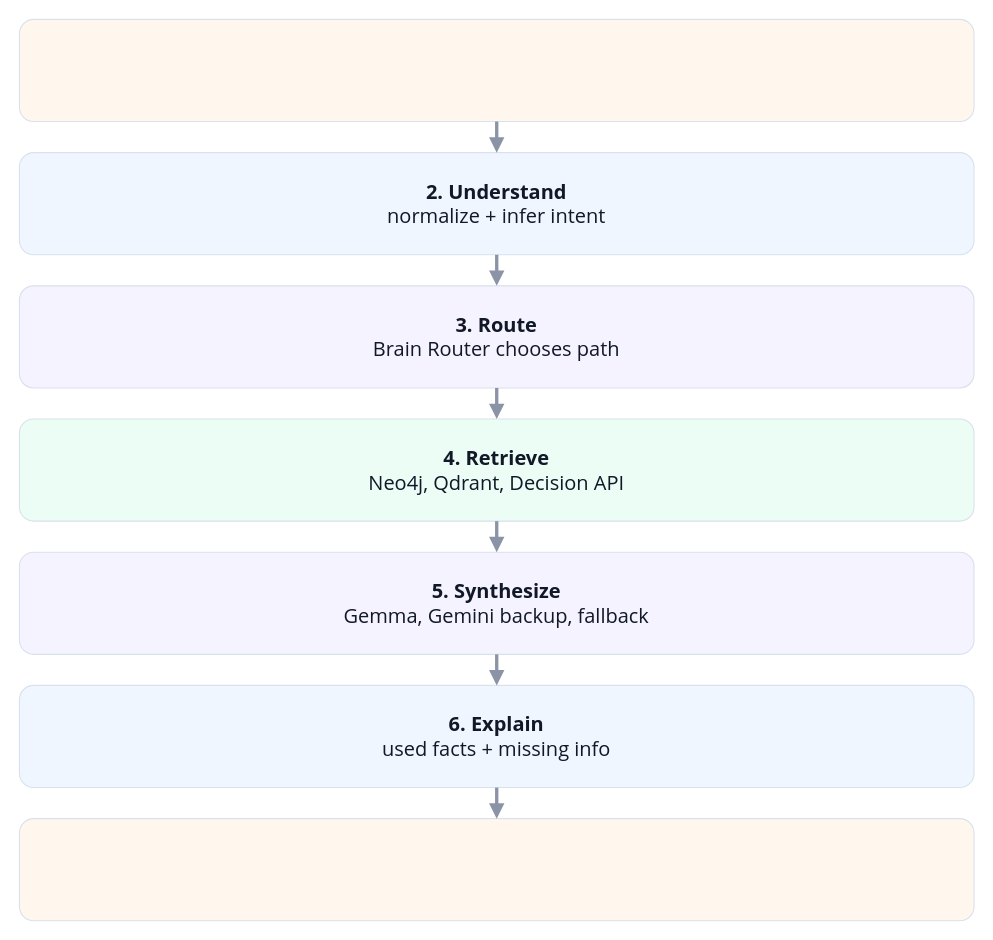
The diagram is 993 pixels wide and 940 high, and some of its shapes have lost their labels. Each missing label, with the centre of its shape:
"1. Remember conversation memory" goes at pixel 496 70.
"7. Persist save the turn" goes at pixel 496 869.
